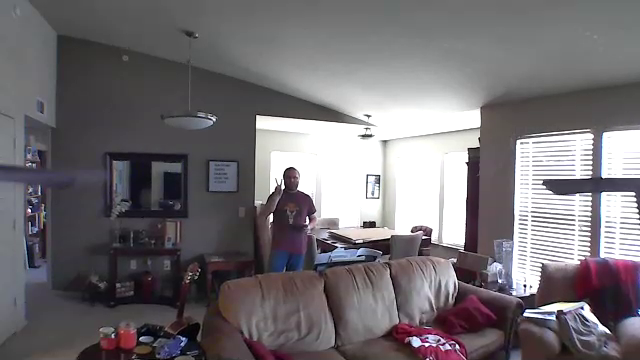peace: (270, 176, 288, 196)
